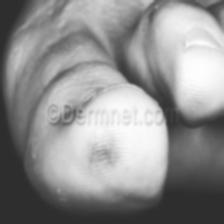Unclassified: (83, 132, 119, 169)
